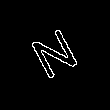N_SE: (25, 23, 85, 87)
